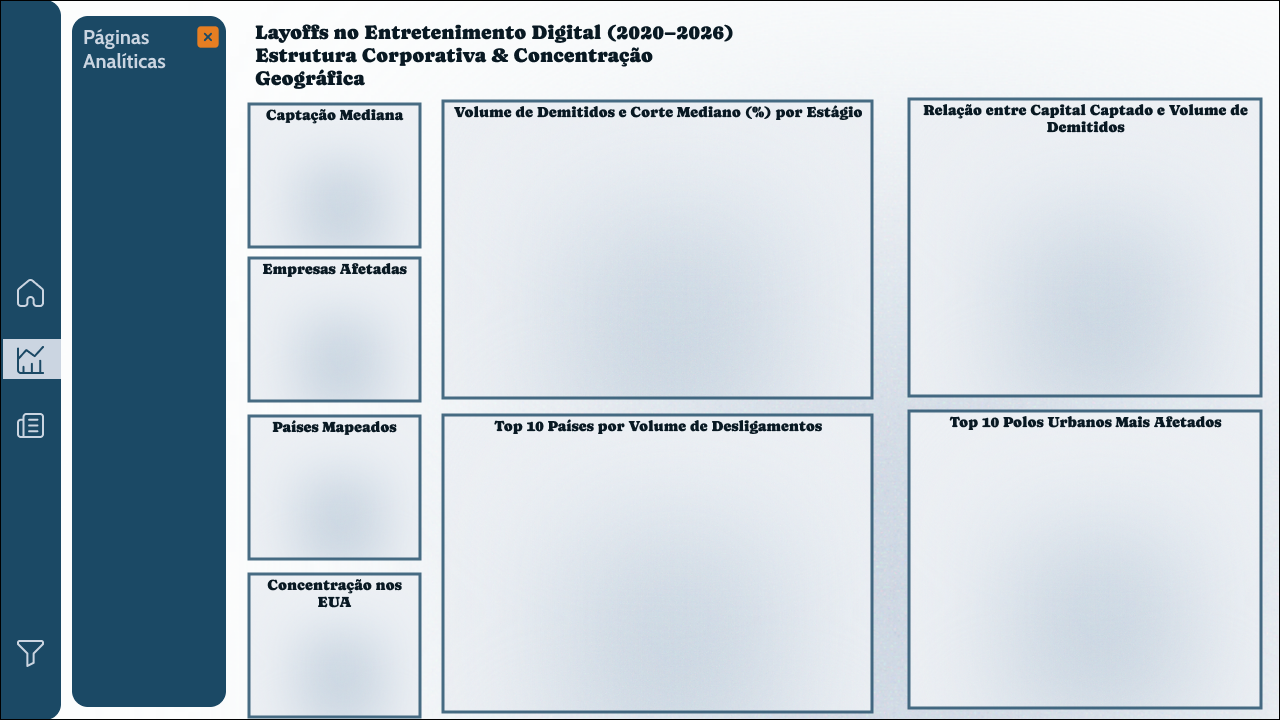

This screenshot's page, from the dashboard's own definition file:
{"tool":"powerbi","page":{"name":"Concentração Geográfica","canvas":[1920,1080],"ordinal":2},"visuals":[{"type":"group","id":"g1","title":"Padrão","box":[0,0,1920,1080],"z":0},{"type":"image","box":[0,0,1920,1080],"z":0,"group":"g1"},{"type":"cardVisual","fields":{"Data":["layoffs.Captacao_Mediana"]},"box":[120,144,288,216],"z":1000,"group":"g1"},{"type":"cardVisual","fields":{"Data":["layoffs.Empresas_Unicas"]},"box":[120,384,288,216],"z":2000,"group":"g1"},{"type":"cardVisual","fields":{"Data":["layoffs.Paises_Mapeados"]},"box":[120,624,288,192],"z":3000,"group":"g1"},{"type":"cardVisual","fields":{"Data":["layoffs.Concentracao_EUA_Pct"]},"box":[120,864,288,192],"z":4000,"group":"g1"},{"type":"actionButton","title":"Painel Filtros","box":[7,945,72,72],"z":4000},{"type":"lineStackedColumnComboChart","fields":{"Category":["layoffs.stage"],"Y":["Sum(layoffs.total_laid_off)"],"Y2":["layoffs.Corte_Mediano"]},"box":[456,192,768,384],"z":5000,"group":"g1"},{"type":"actionButton","title":"Painel Navegação","box":[7,505,72,72],"z":5000},{"type":"scatterChart","fields":{"Category":["layoffs.company"],"Series":["layoffs.industry"],"X":["Sum(layoffs.funds_raised)"],"Y":["Sum(layoffs.total_laid_off)"]},"box":[1272,192,624,384],"z":6000,"group":"g1"},{"type":"pageNavigator","title":"Sobre o Case","box":[12,608,60,60],"z":6000},{"type":"pageNavigator","title":"Home","box":[22,418,60,60],"z":7000},{"type":"clusteredBarChart","fields":{"Category":["layoffs.country"],"Y":["Sum(layoffs.total_laid_off)"]},"box":[456,648,768,408],"z":7000,"group":"g1"},{"type":"clusteredBarChart","fields":{"Category":["layoffs.location"],"Y":["Sum(layoffs.total_laid_off)"]},"box":[1296,648,576,408],"z":8000,"group":"g1"}]}

Visuals, with their boxes on the page's 1920x1080 design canvas (x1, y1, x2, y2). These are canvas units, not pixel positions in the 1280x720 screenshot, which may show the page scaled, cropped or inside an application window:
"Padrão" group: left=0, top=0, right=1920, bottom=1080
image: left=0, top=0, right=1920, bottom=1080
cardVisual - layoffs.Captacao_Mediana: left=120, top=144, right=408, bottom=360
cardVisual - layoffs.Empresas_Unicas: left=120, top=384, right=408, bottom=600
cardVisual - layoffs.Paises_Mapeados: left=120, top=624, right=408, bottom=816
cardVisual - layoffs.Concentracao_EUA_Pct: left=120, top=864, right=408, bottom=1056
"Painel Filtros" actionButton: left=7, top=945, right=79, bottom=1017
lineStackedColumnComboChart - layoffs.stage x Sum(layoffs.total_laid_off): left=456, top=192, right=1224, bottom=576
"Painel Navegação" actionButton: left=7, top=505, right=79, bottom=577
scatterChart - layoffs.company x layoffs.industry: left=1272, top=192, right=1896, bottom=576
"Sobre o Case" pageNavigator: left=12, top=608, right=72, bottom=668
"Home" pageNavigator: left=22, top=418, right=82, bottom=478
clusteredBarChart - layoffs.country x Sum(layoffs.total_laid_off): left=456, top=648, right=1224, bottom=1056
clusteredBarChart - layoffs.location x Sum(layoffs.total_laid_off): left=1296, top=648, right=1872, bottom=1056
